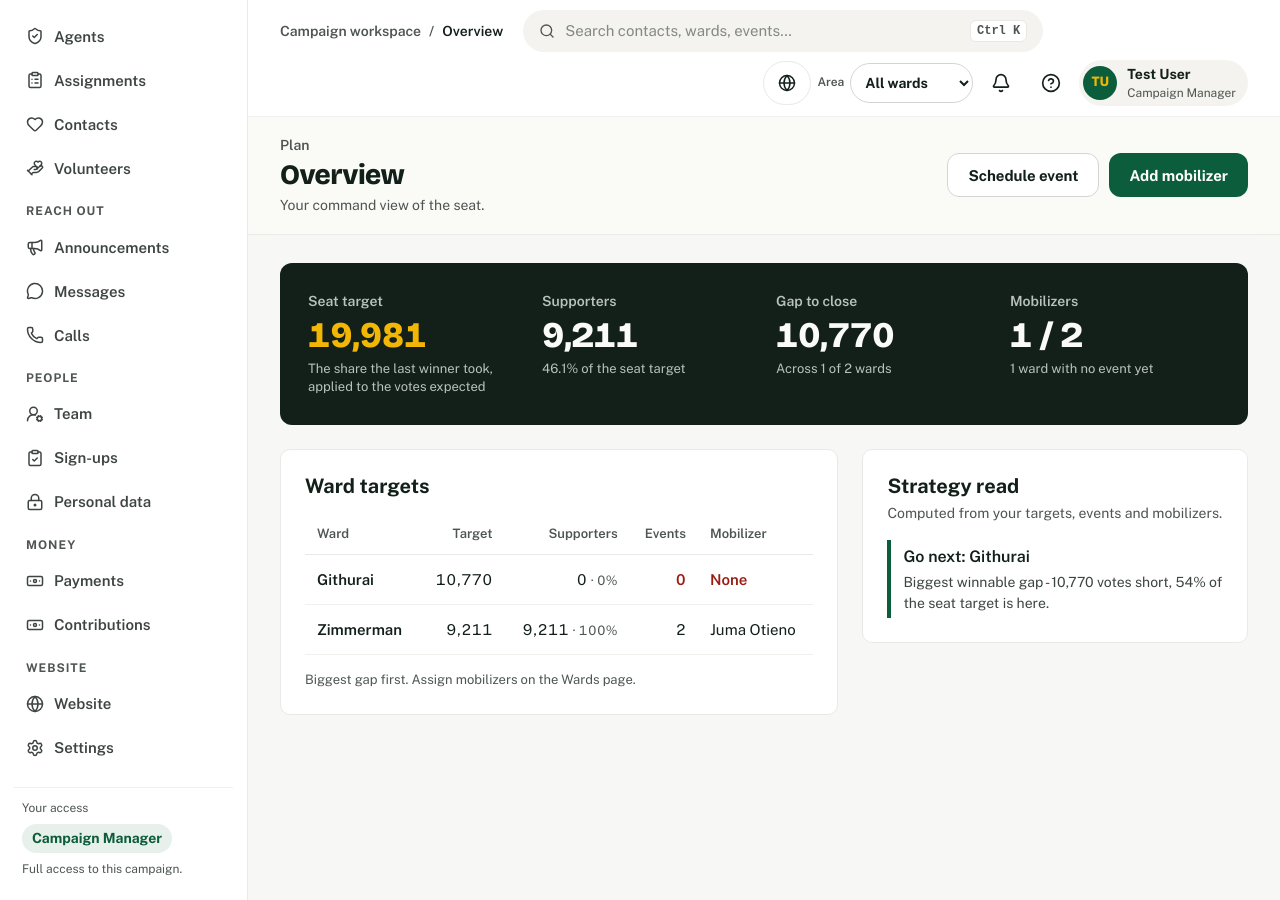
Test: payments › counts failed payments and ones stuck while sending as needing attention
(page scrolled)
Click the link "Payments".
click(75, 581)  # box [26,572,124,590]
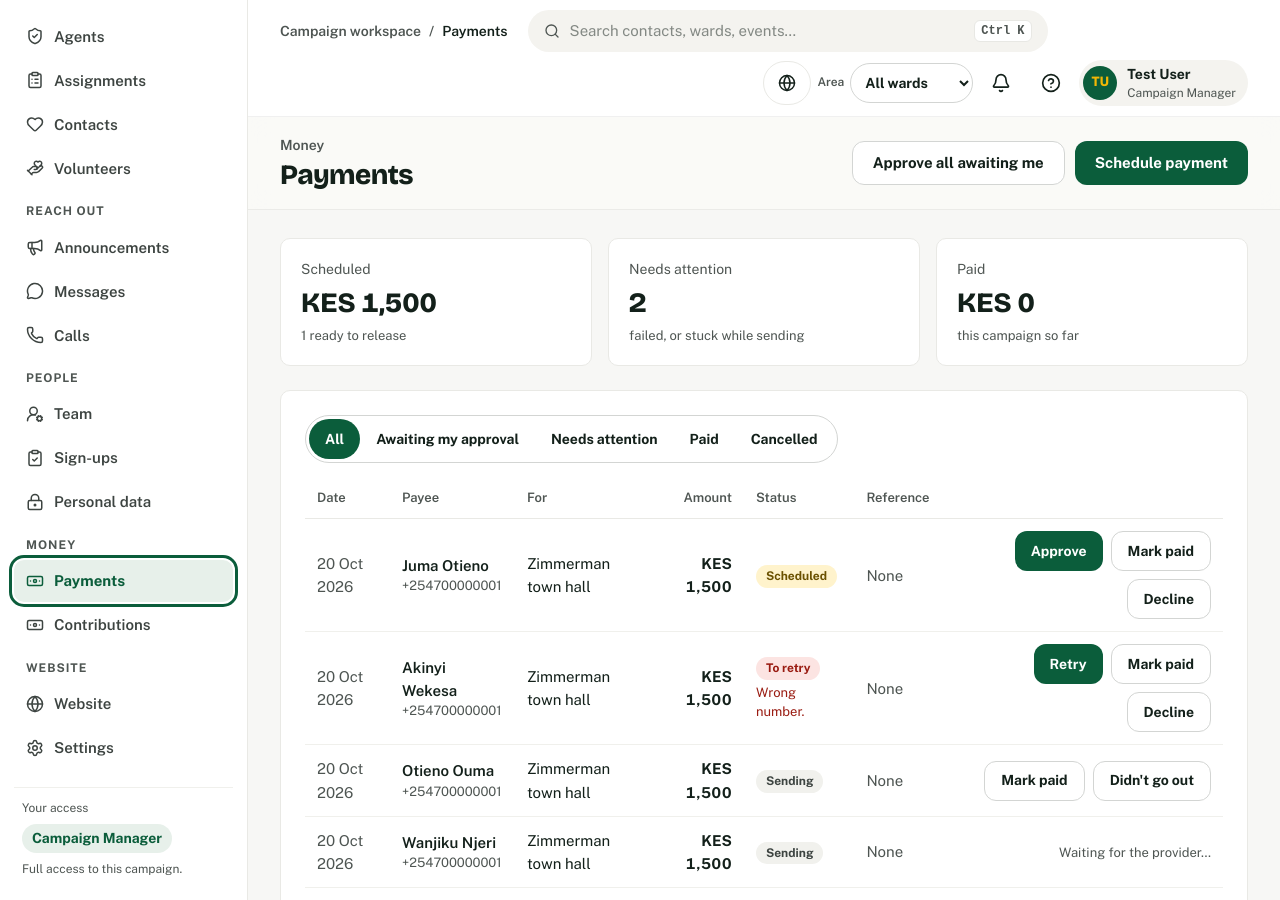
Expected: the text "Juma Otieno" is shown, [402,554,503,578]
Expected: the text "2" is shown, [629,286,646,320]
